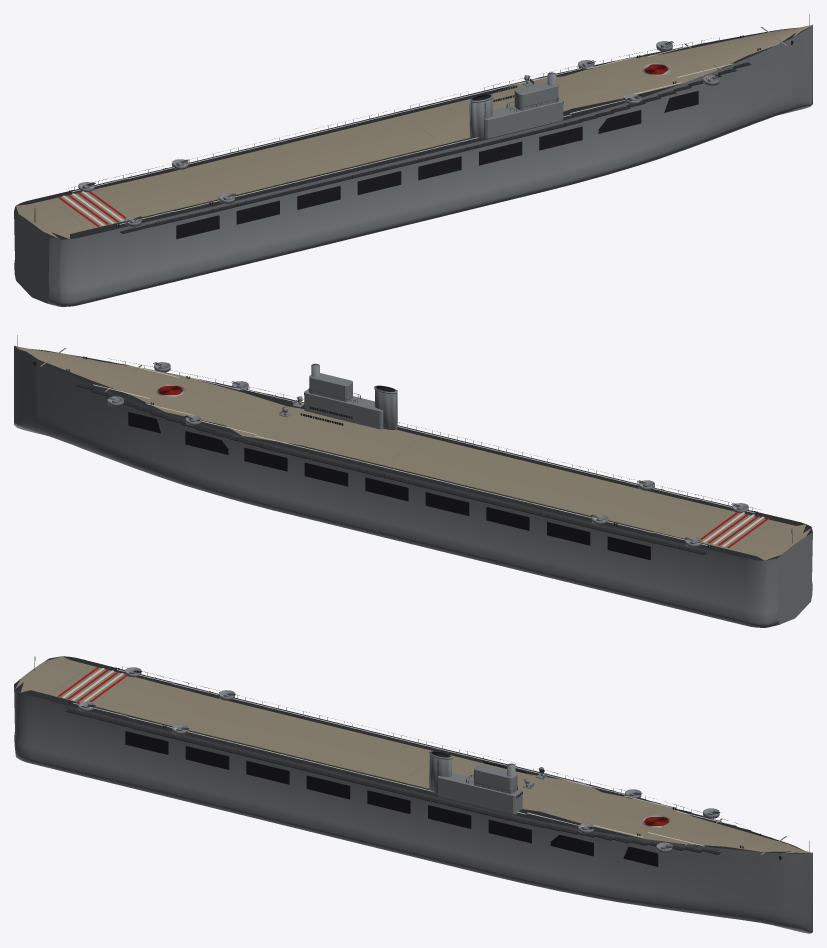
Rendered from shokaku_lod.glb.
3 renders of one model, top to bottom at view 1: azimuth 30°, elevation 25°; view 2: azimuth 150°, elevation 25°; view 3: azimuth 330°, elevation 25°, orthographic.
Visible parts, largest first — view 1: shokaku_lod; view 2: shokaku_lod; view 3: shokaku_lod.
Boxes of the visible parts, x1,y1,x2,y2 form: shokaku_lod: (14, 14, 812, 306); shokaku_lod: (14, 335, 812, 627); shokaku_lod: (14, 656, 812, 933).
Size of the model in its own units: 258 by 36.51 by 32.38.
